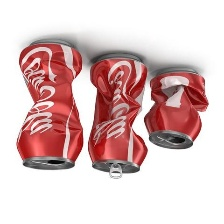can: (14, 37, 84, 174), (86, 51, 149, 179), (144, 62, 213, 157)
